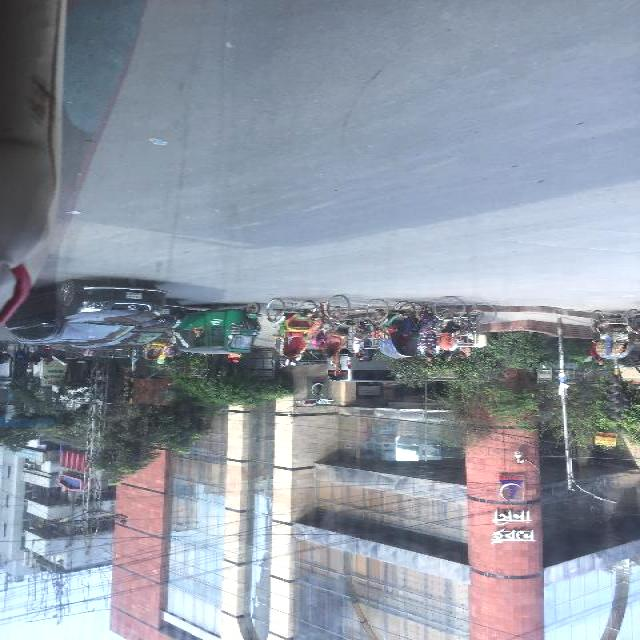black: (10, 285, 163, 342), (97, 308, 182, 347)
